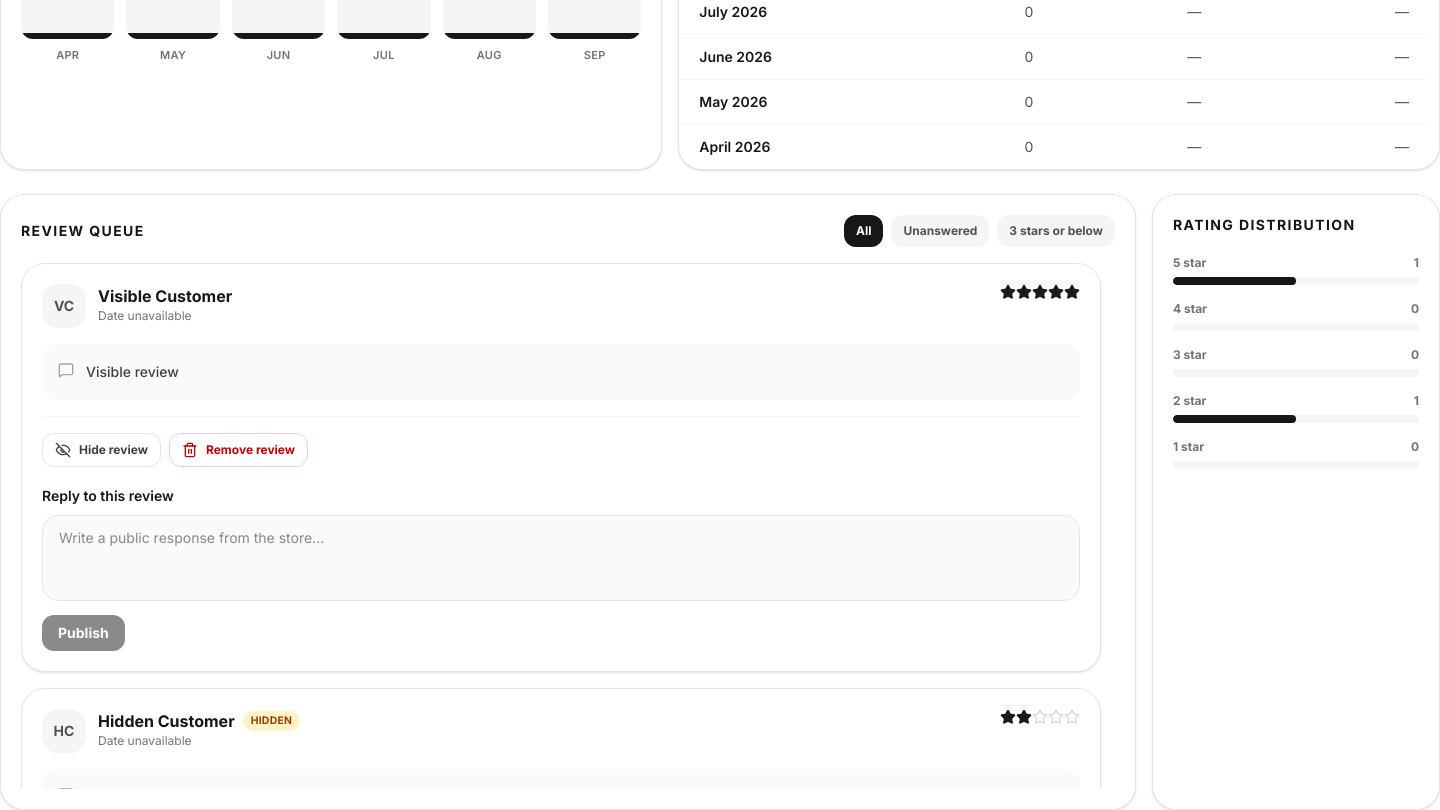
Test: StoreOwnerFeedback moderation › requires confirmation before permanent removal
(page scrolled)
Click the button with aria-label "remove review from visible customer".
click(238, 450)  # box [169, 433, 308, 467]
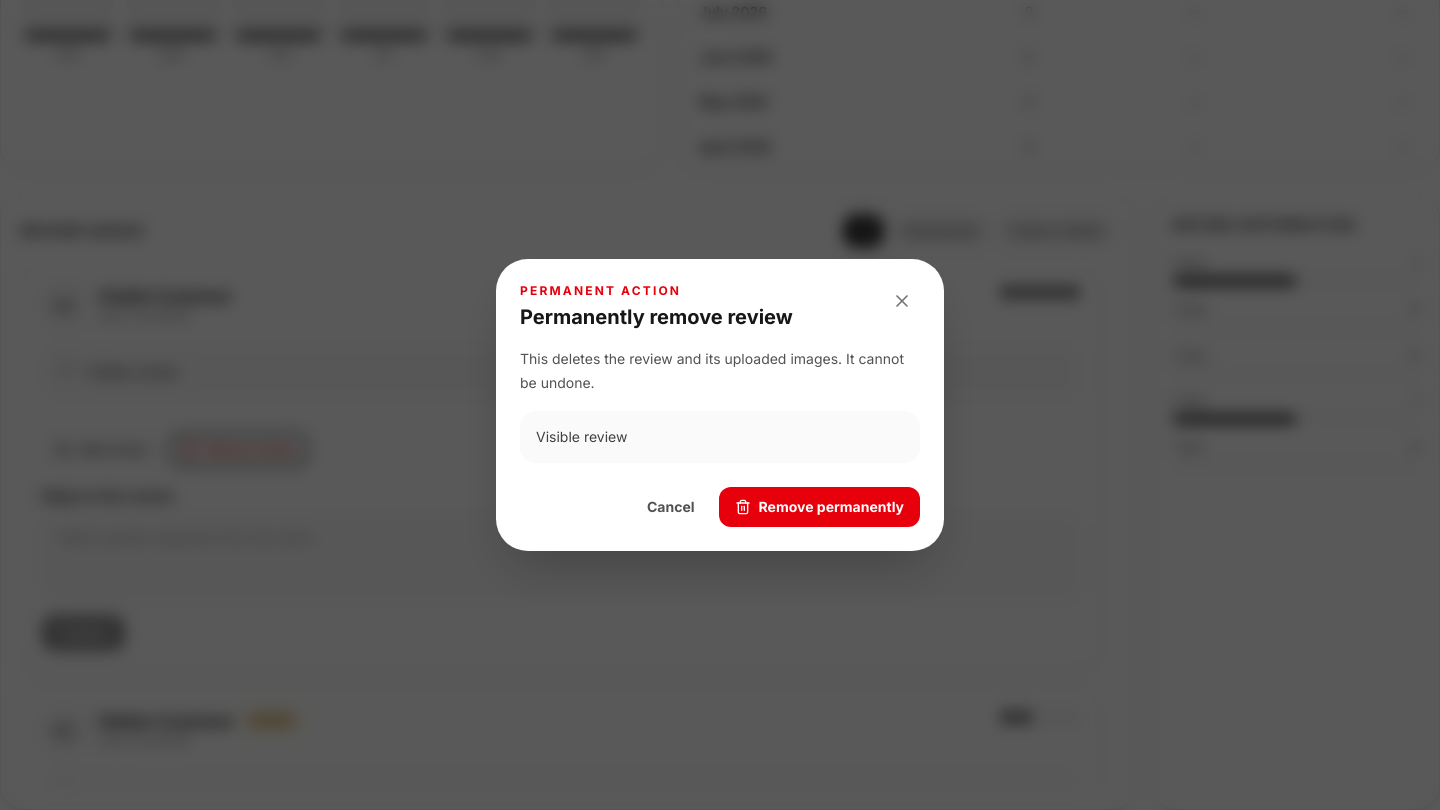
Check: the dialog "Permanently remove review" is shown
Click the button with aria-label "confirm permanent removal".
click(819, 507)  # box [718, 487, 920, 527]
(page scrolled)
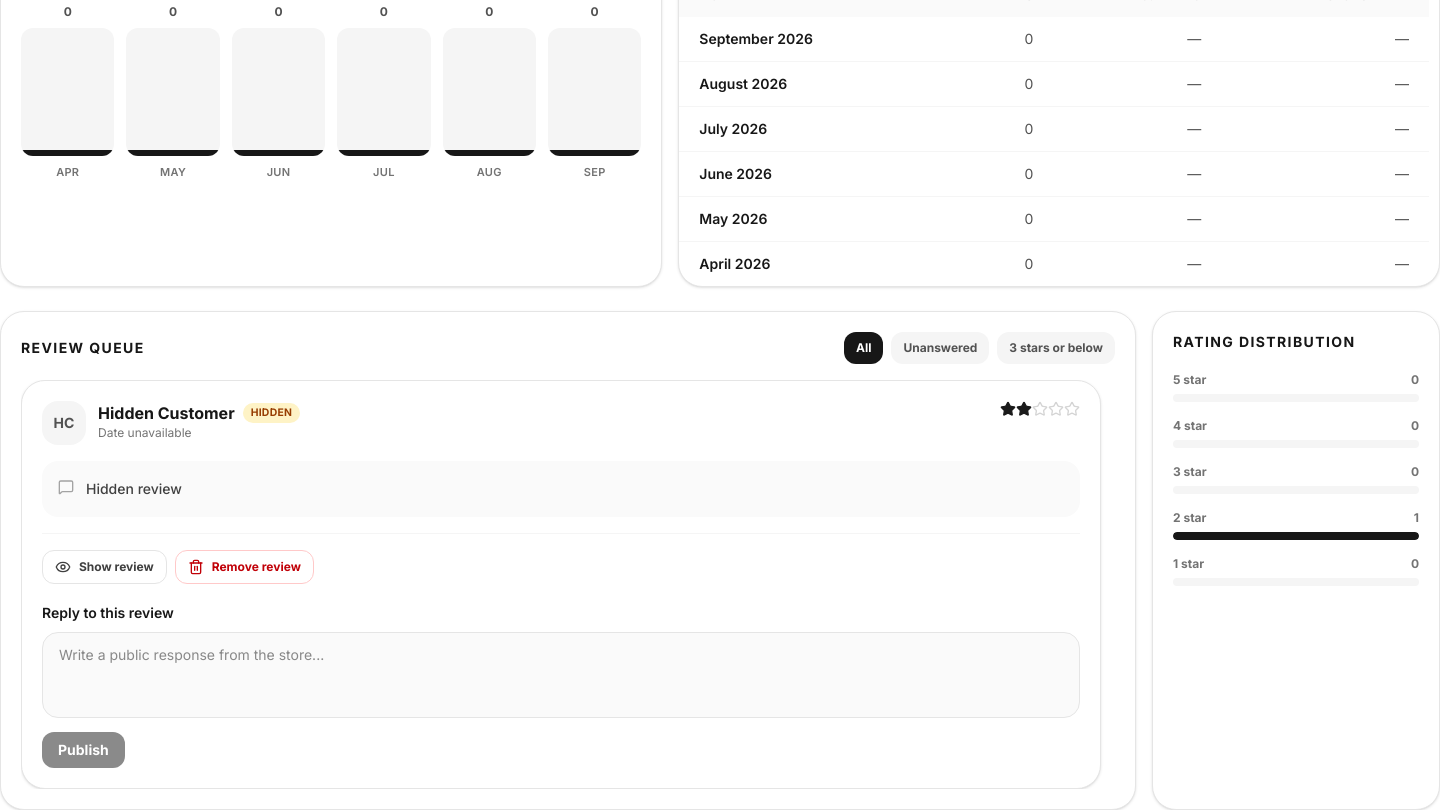
Check: the text "Visible review" is gone
